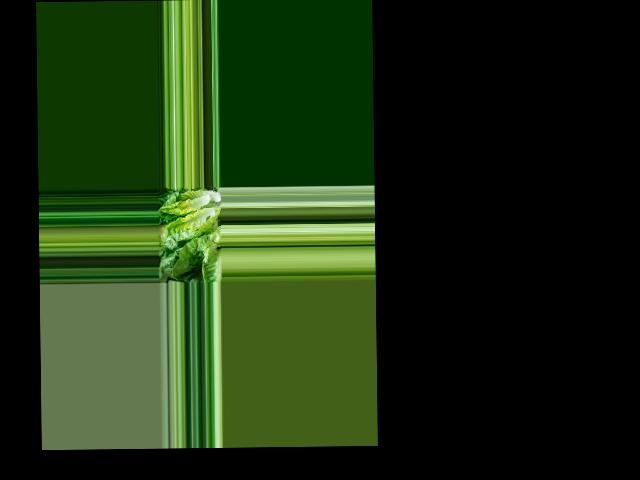lettuce: (162, 189, 222, 250)
